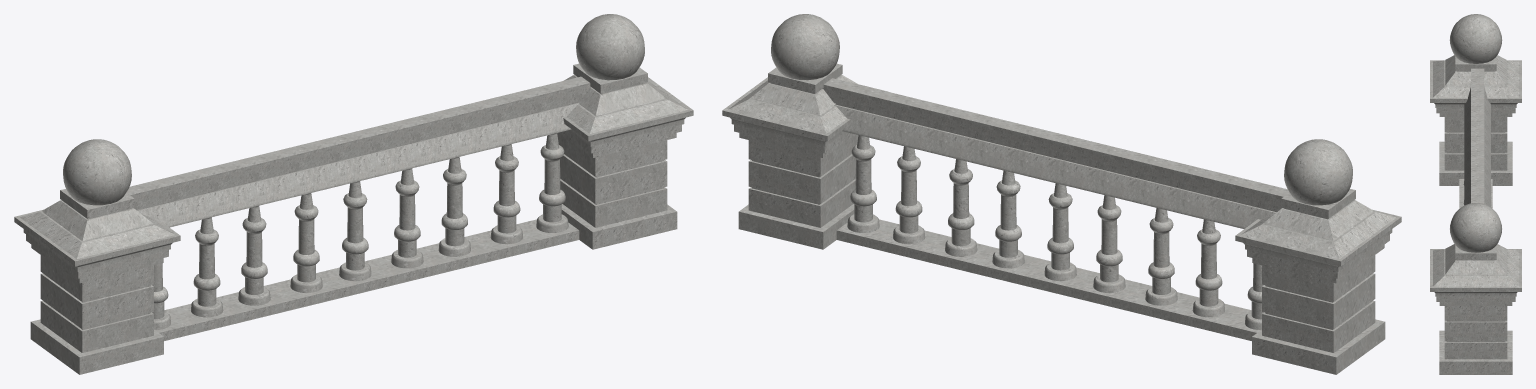
Rendered from fbxFence.fbx.
The picture shows the model from 3 angles, left to right: view 1: azimuth 30°, elevation 25°; view 2: azimuth 150°, elevation 25°; view 3: azimuth 270°, elevation 25°; orthographic projection. The views are drawn at different scales.
Parts seen in each view (by area): view 1: fence3; view 2: fence3; view 3: fence3.
Boxes of the visible parts, <box> form: fence3: <box>14,14,693,374</box>; fence3: <box>722,14,1401,374</box>; fence3: <box>1430,14,1521,374</box>.
Bounding box in the file's own units: 4.45 × 1.4 × 0.7581.
1 material, 1 textured.
